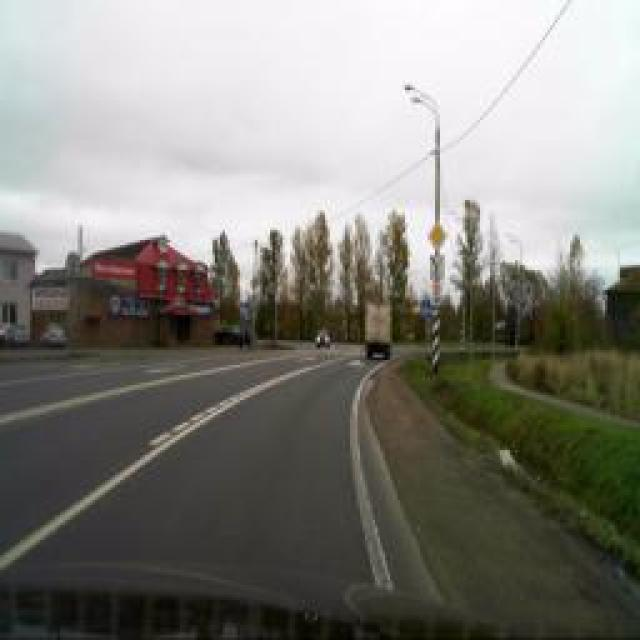sign: (428, 221, 448, 254)
